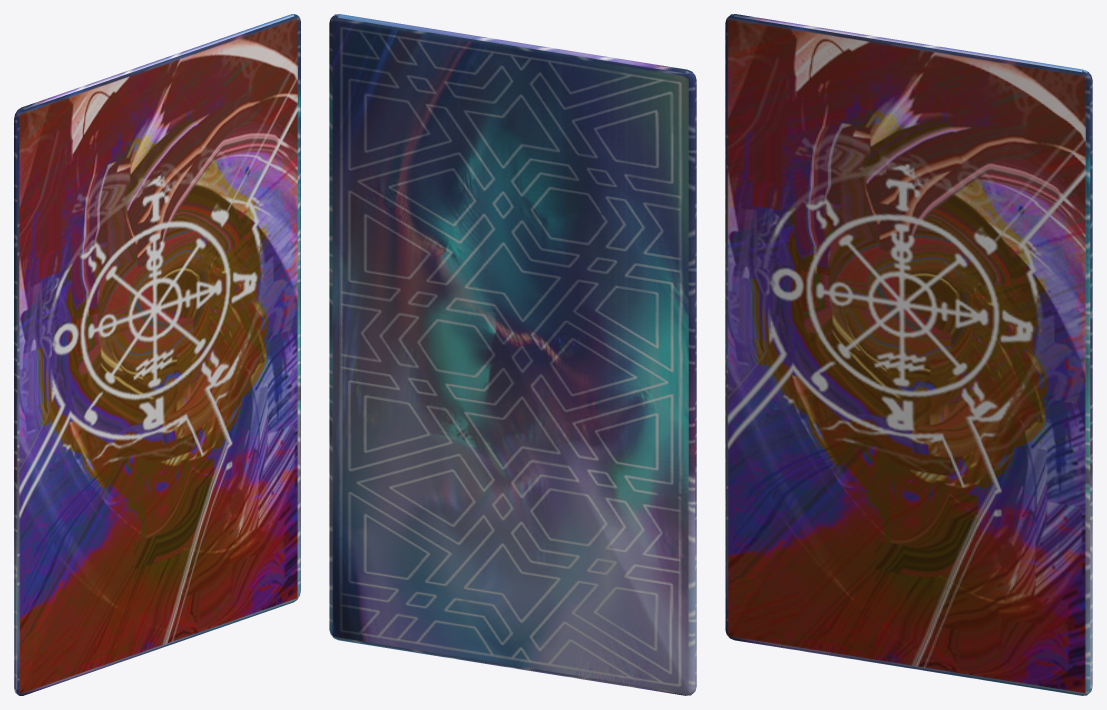
File: tarot_fortune.fbx
3 views of the same model, side by side, from view 1: azimuth 30°, elevation 25°; view 2: azimuth 150°, elevation 25°; view 3: azimuth 330°, elevation 25° (orthographic). The views are drawn at different scales.
Visible parts, largest first — view 1: Cube_1; view 2: Cube_1; view 3: Cube_1.
Boxes of the visible parts, <box> form: Cube_1: <box>14,14,300,695</box>; Cube_1: <box>329,14,696,695</box>; Cube_1: <box>725,14,1092,695</box>.
Bounding box in the file's own units: 190 × 339 × 34.06.
1 material, 1 textured.
